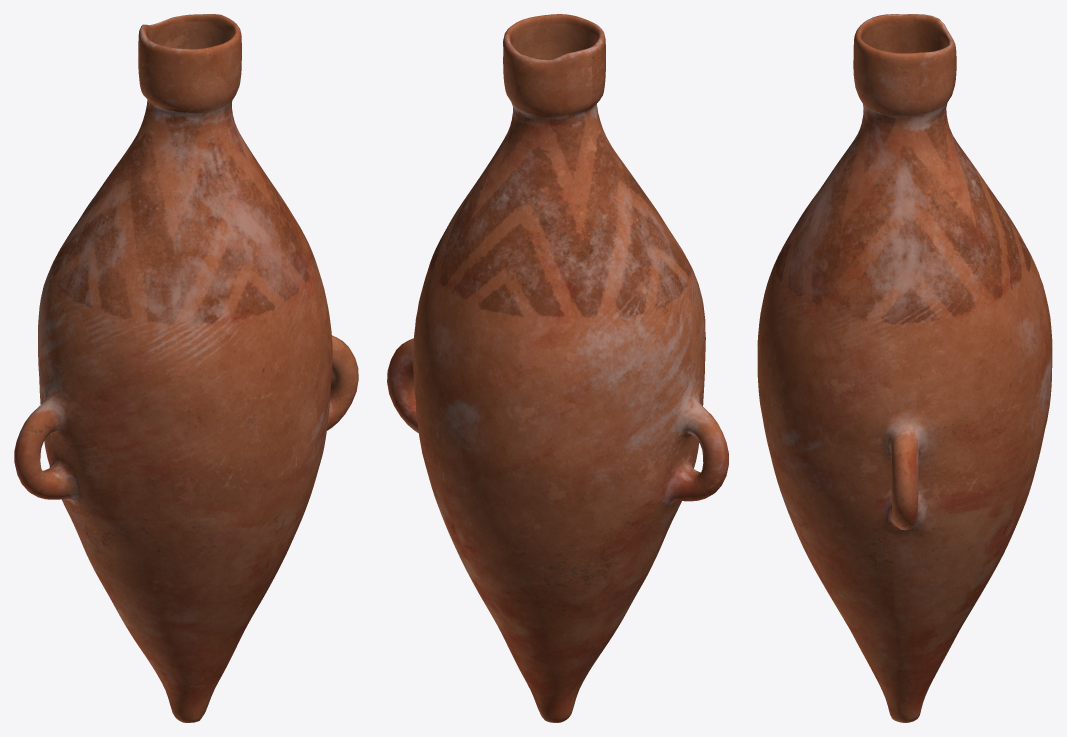
3 renders of one model, left to right at view 1: azimuth 30°, elevation 25°; view 2: azimuth 150°, elevation 25°; view 3: azimuth 270°, elevation 25°, orthographic.
Parts seen in each view (by area): view 1: XKJDP; view 2: XKJDP; view 3: XKJDP.
Part boxes in pixels (left/top/right/bottom): XKJDP: left=14, top=14, right=358, bottom=722; XKJDP: left=387, top=14, right=728, bottom=722; XKJDP: left=757, top=14, right=1052, bottom=722.
Bounding box in the file's own units: 0.0239 × 0.0462 × 0.018.
1 material, 1 textured.
